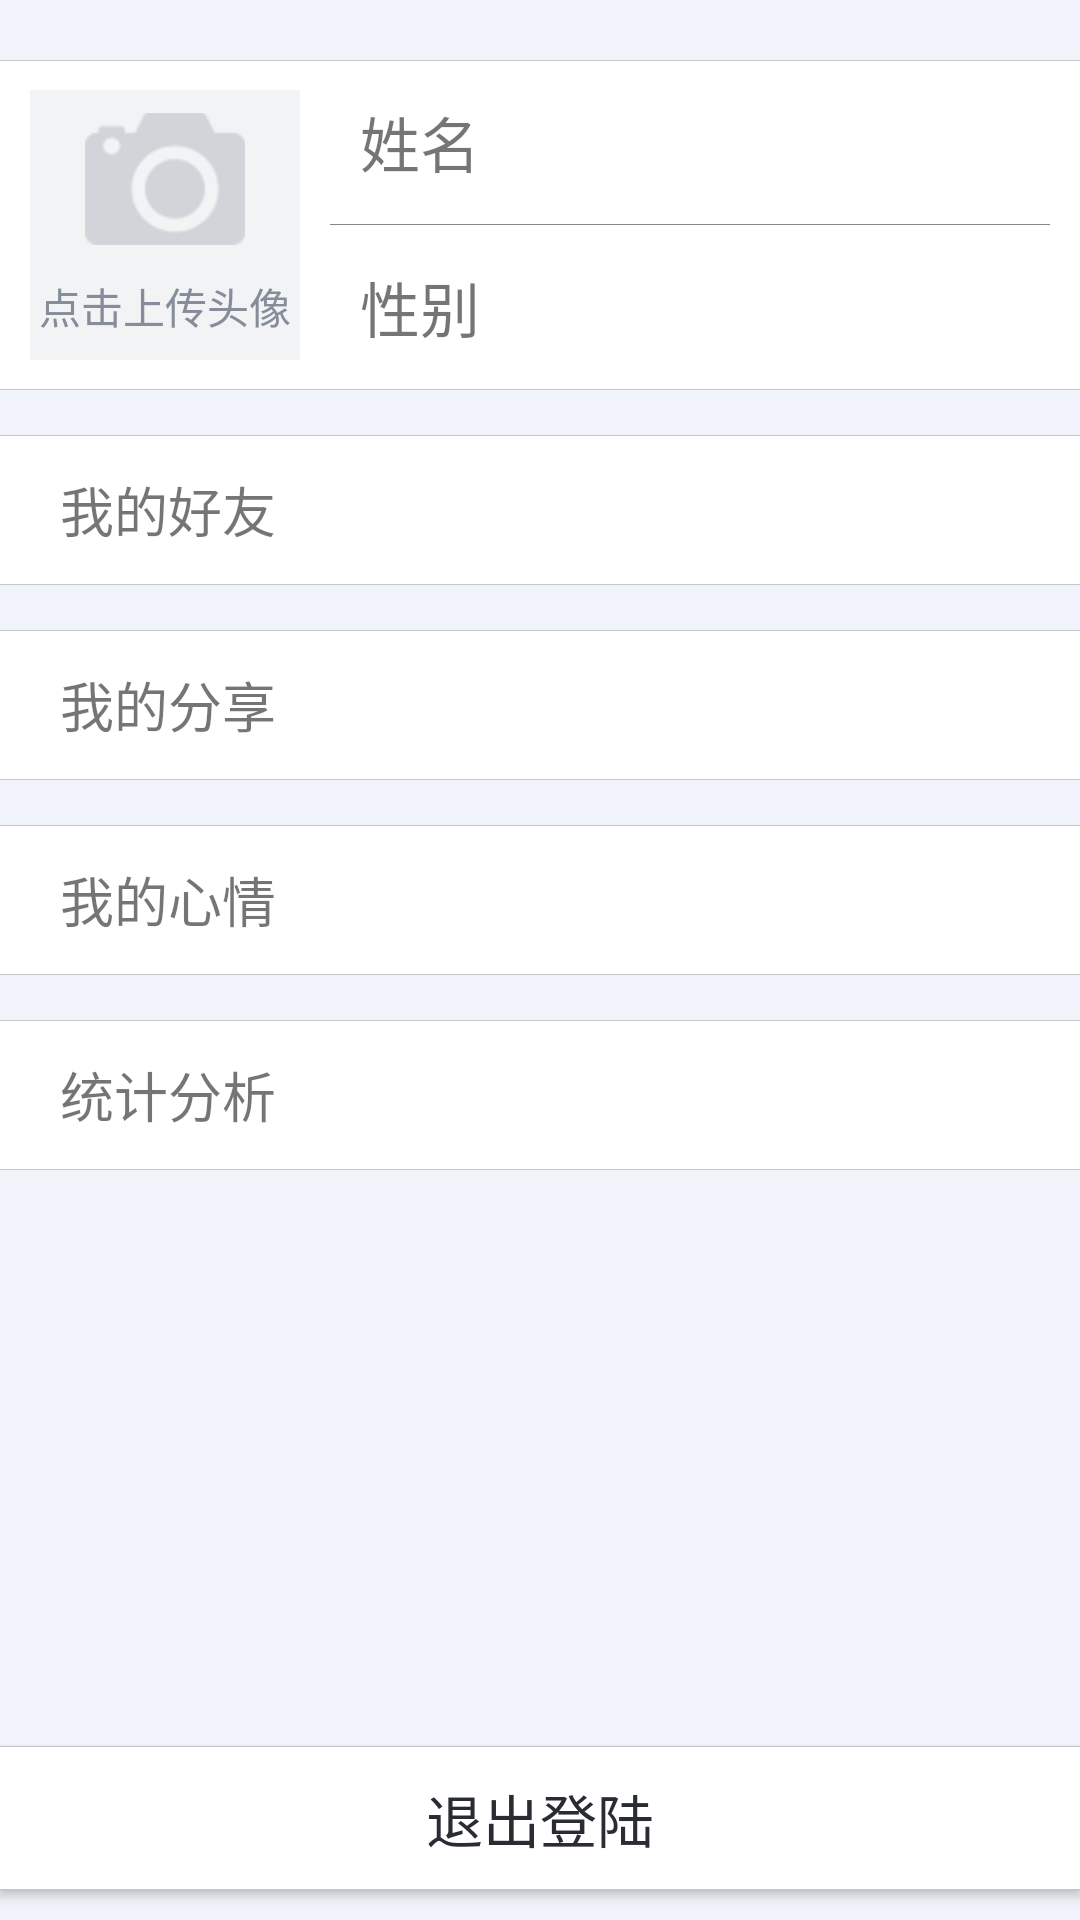

Icons on this 1080 x 1920 Android screen, each with the point to tap as [x,y]:
camera: [165,179]
